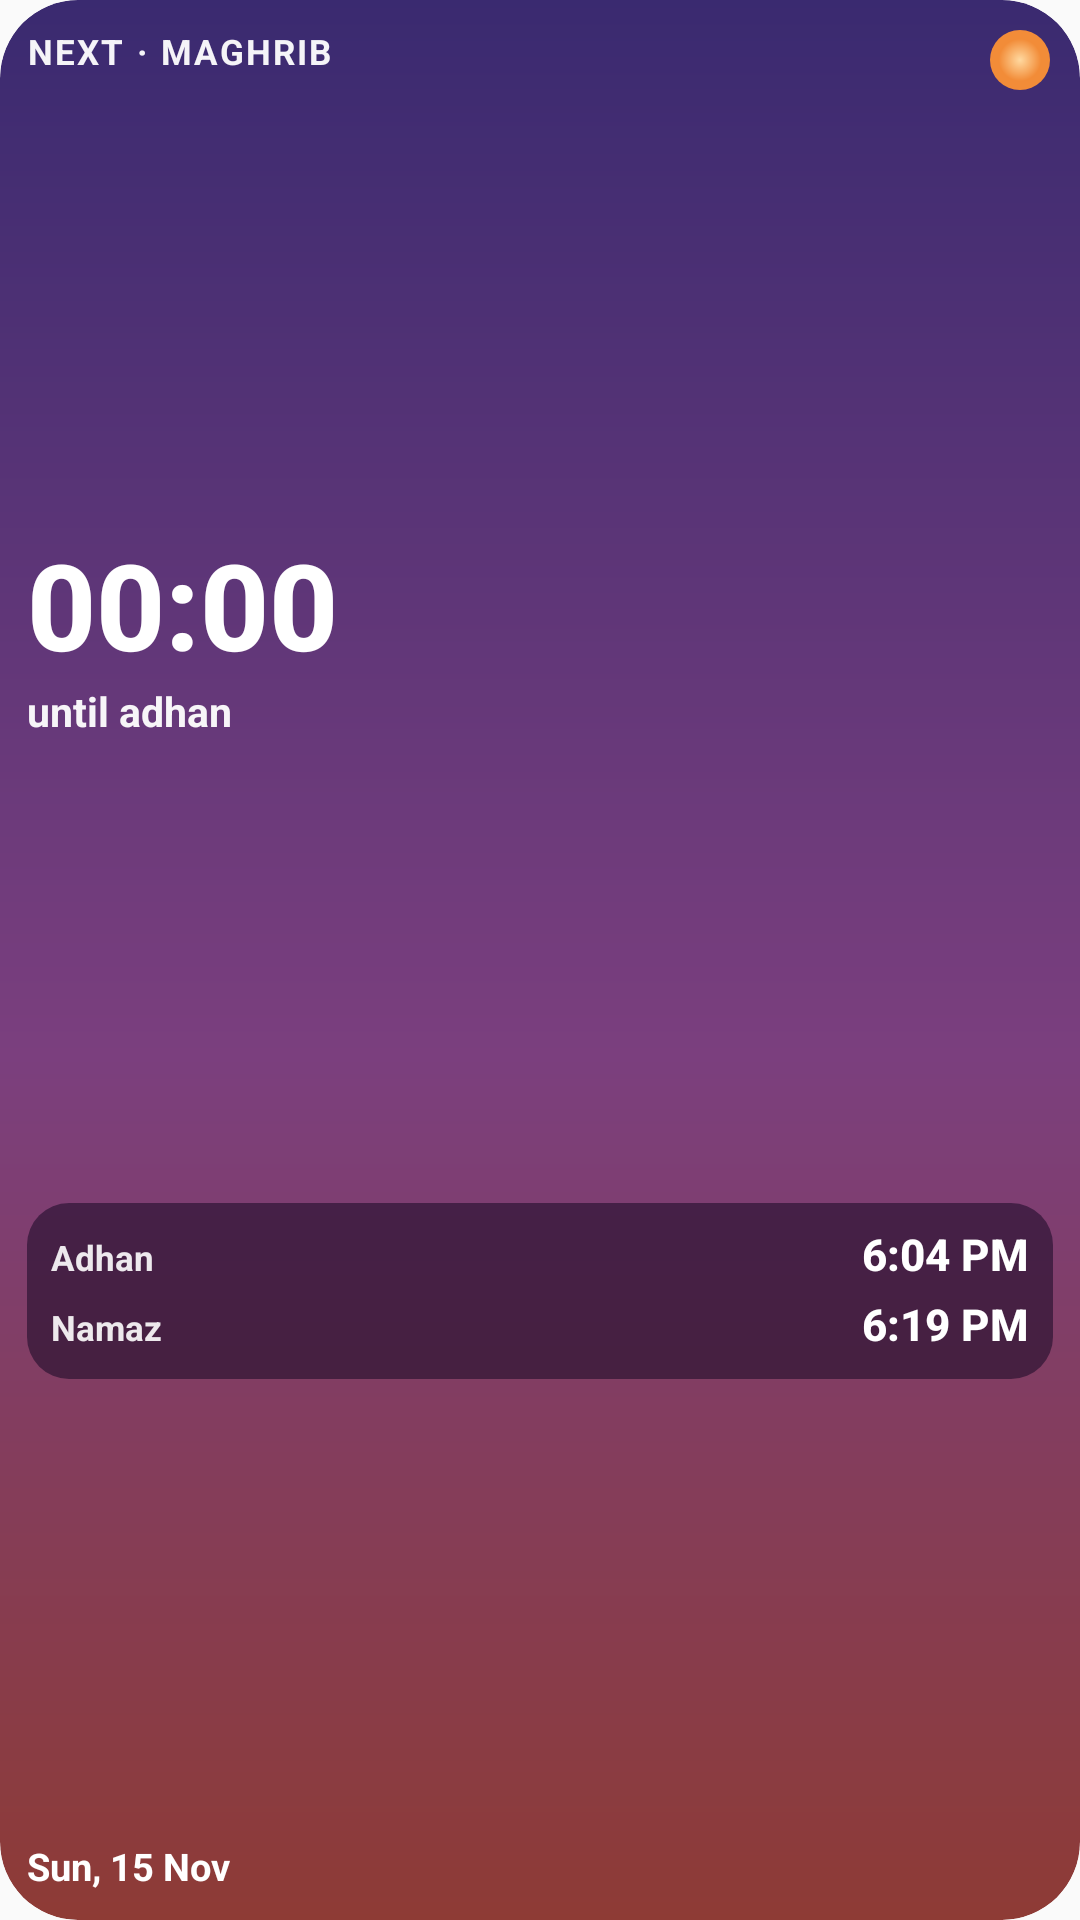

Icons on this 1080x1920 Android screen, each with its box as Rect(x1, y1, x2, y2):
sun warm: Rect(990, 30, 1050, 90)
